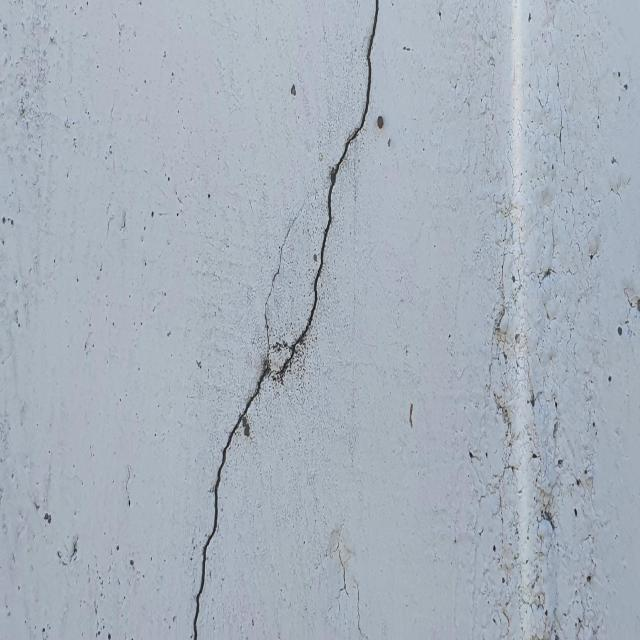SurfaceCrack: (170, 0, 419, 639)
